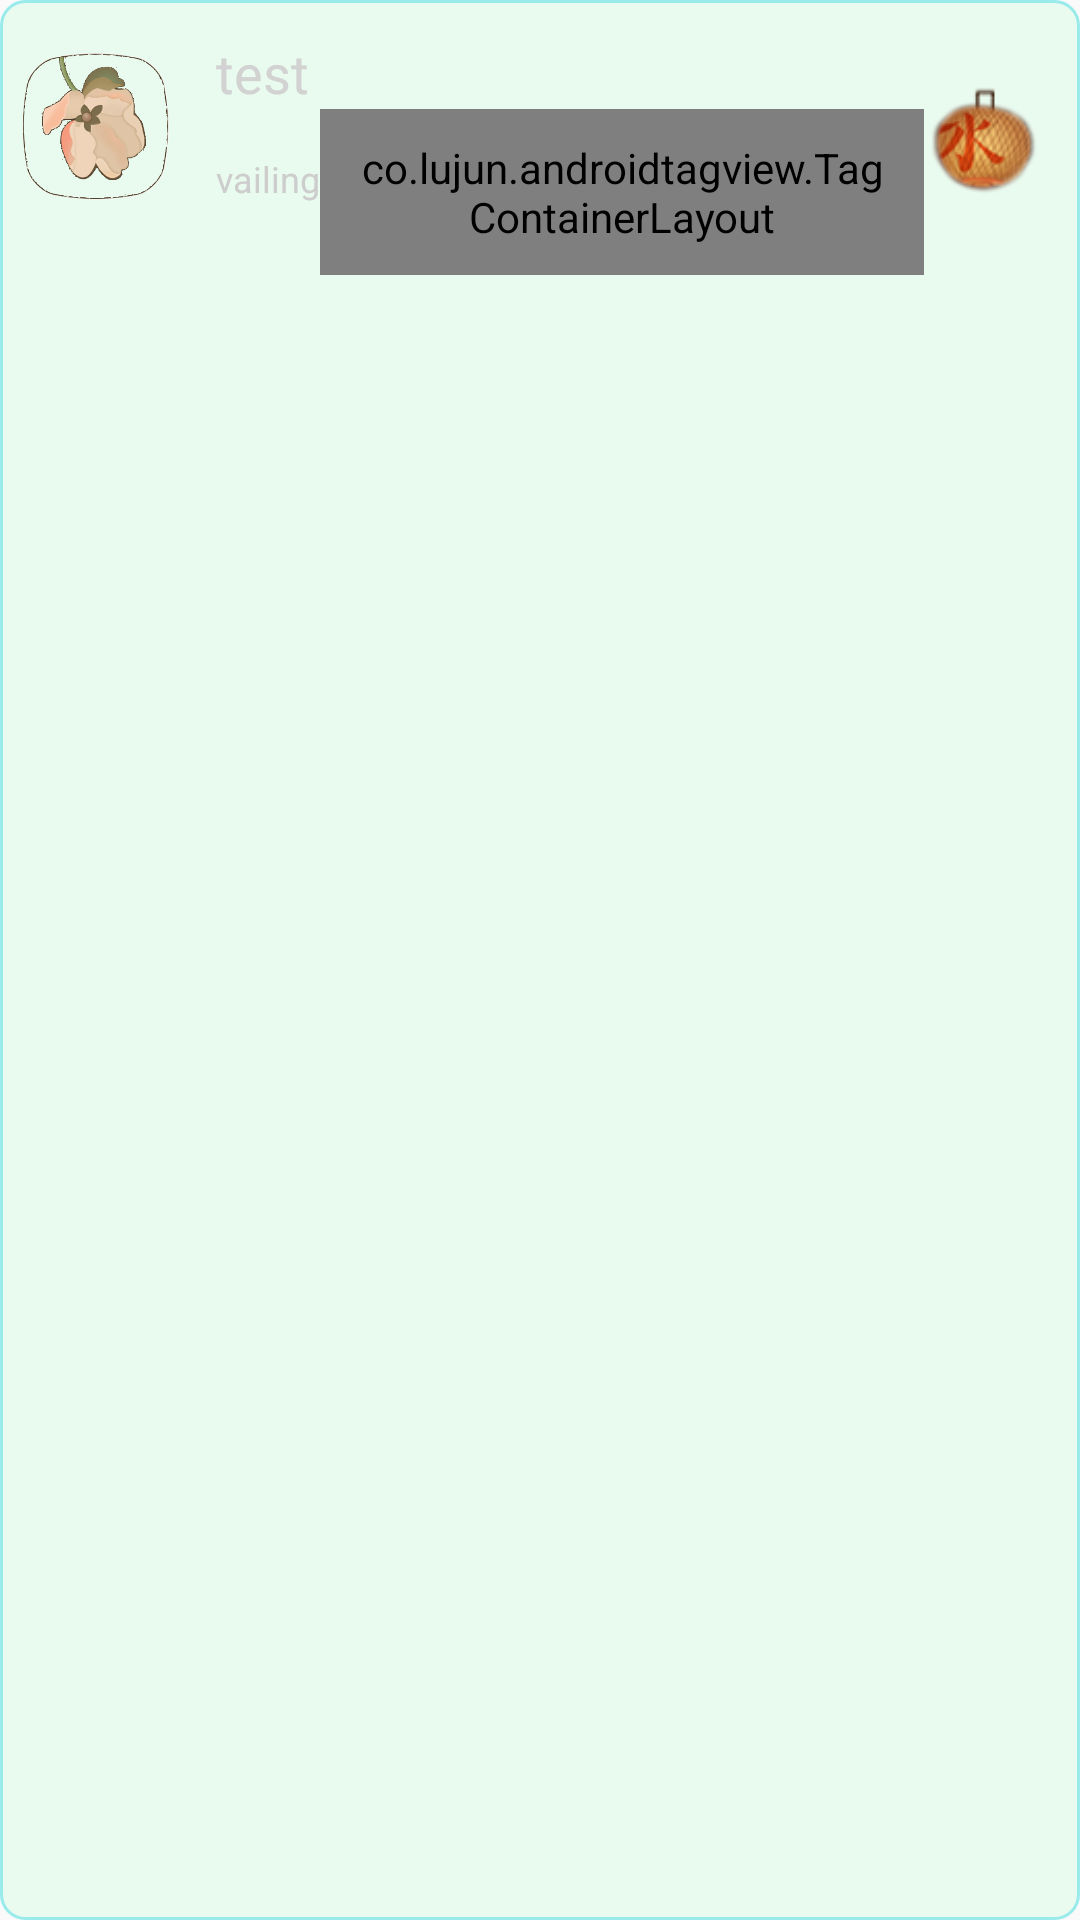

Named icons in this screenshot (1080px×1920px) and their bounding boxes, (x1, y1, x2, y2):
flower: (23, 53, 168, 199)
